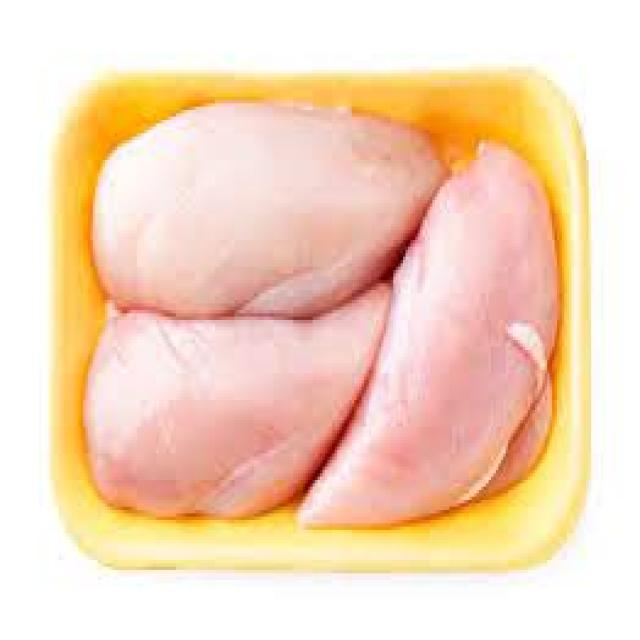chicken: (310, 142, 550, 538), (86, 97, 451, 320), (74, 285, 389, 512)
